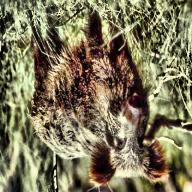boar: (18, 5, 180, 192)
